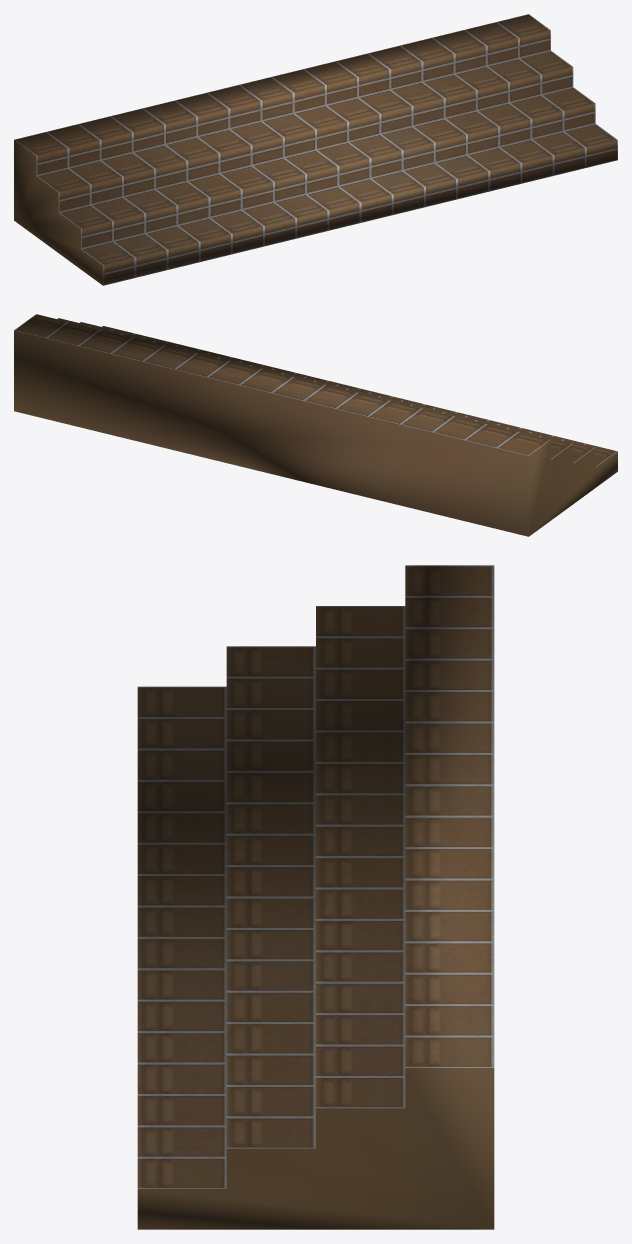
The model's file is set_floor_01_stairs_col.fbx.
3 renders of one model, top to bottom at view 1: azimuth 30°, elevation 25°; view 2: azimuth 150°, elevation 25°; view 3: azimuth 270°, elevation 25°, orthographic. The views are drawn at different scales.
Parts seen in each view (by area): view 1: set_floor_01_stairs_col; view 2: set_floor_01_stairs_col; view 3: set_floor_01_stairs_col.
Part boxes in pixels (bbox=[...]): set_floor_01_stairs_col: bbox=[14, 14, 617, 285]; set_floor_01_stairs_col: bbox=[14, 314, 617, 536]; set_floor_01_stairs_col: bbox=[137, 565, 494, 1229].
Size of the model in its own units: 400 by 60 by 120.
